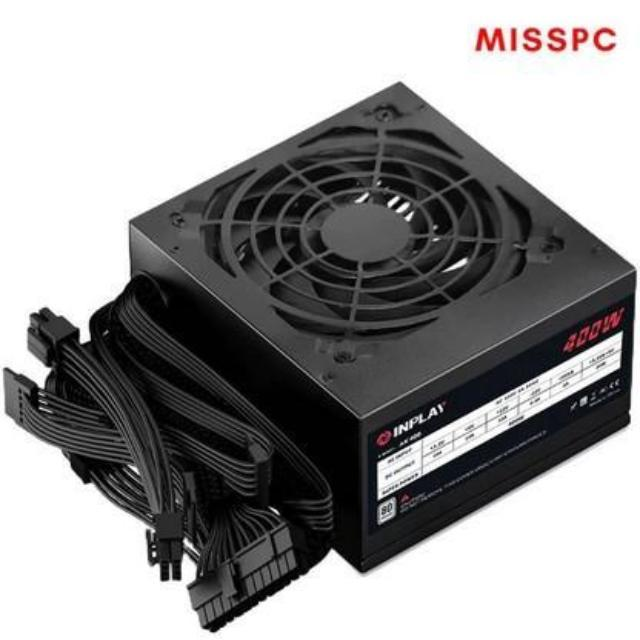PSU: (115, 70, 640, 578)
